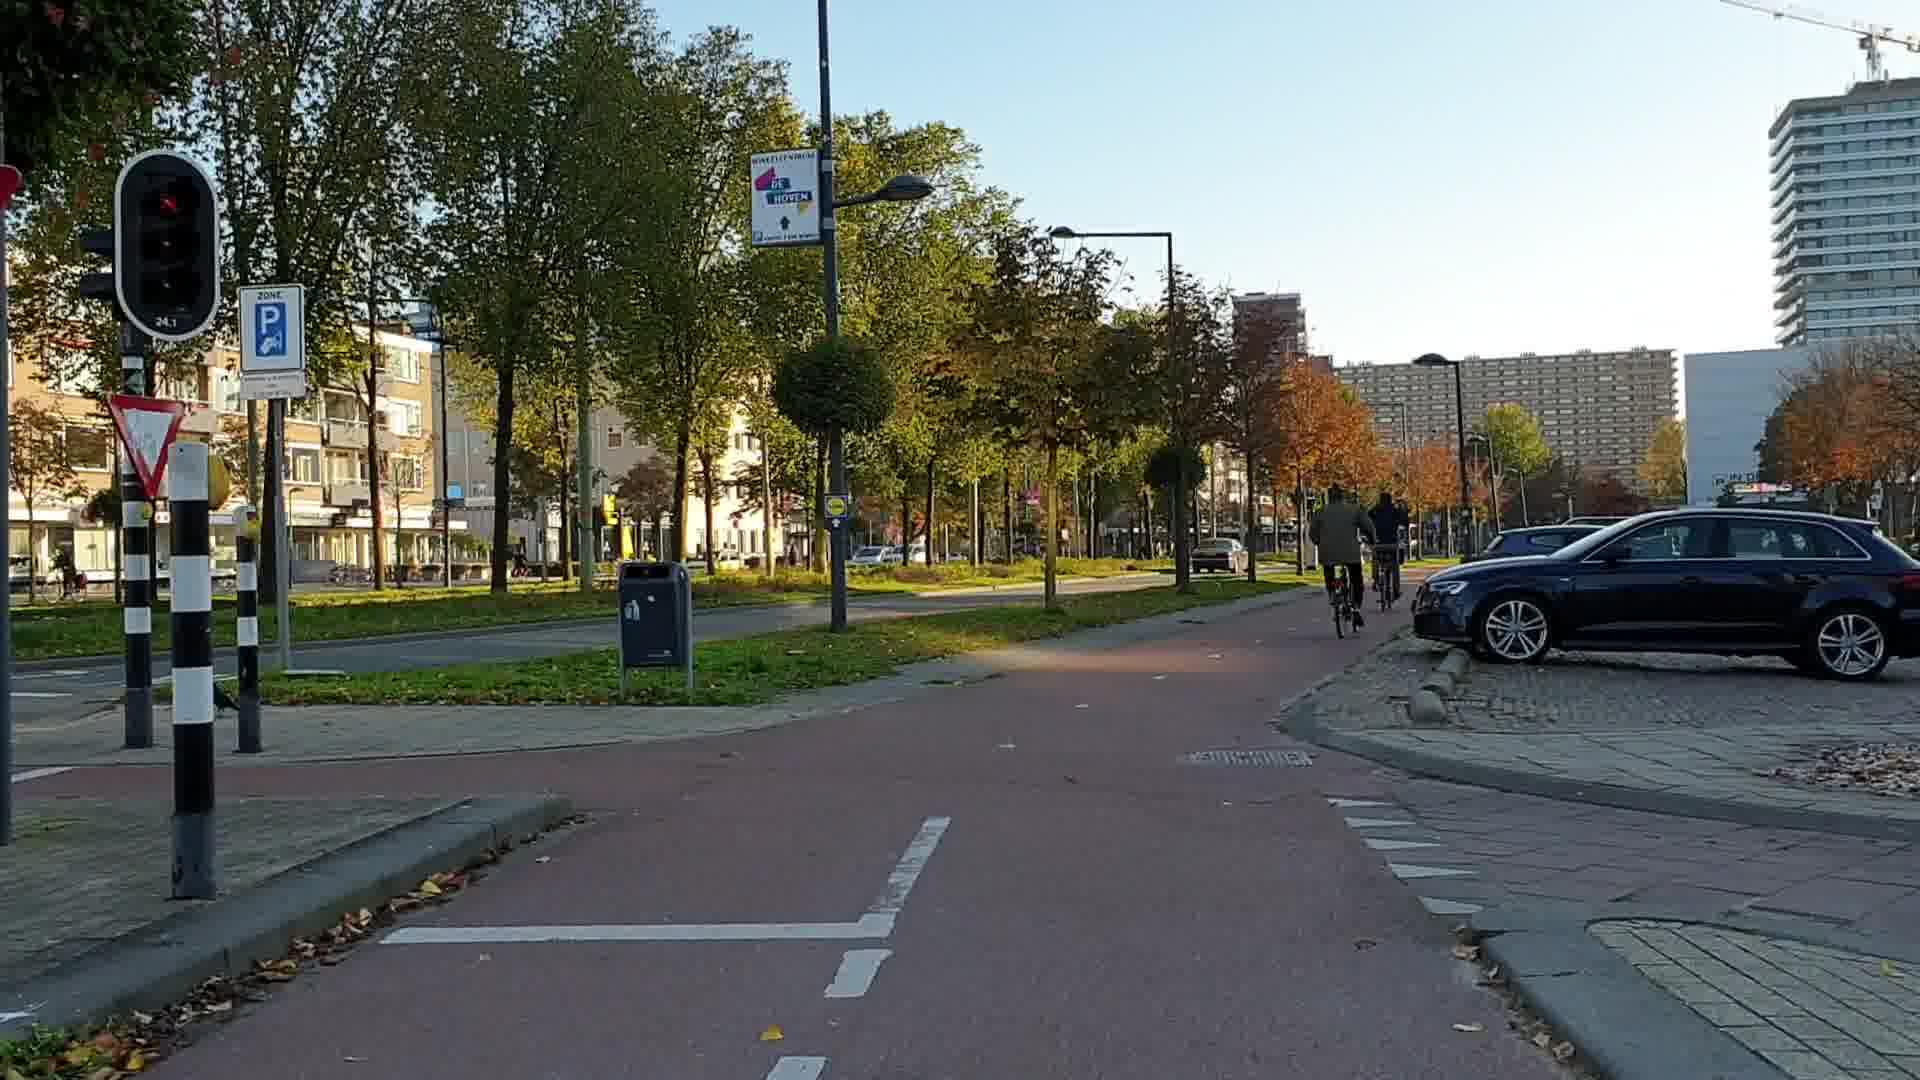car: (1416, 502, 1920, 679)
